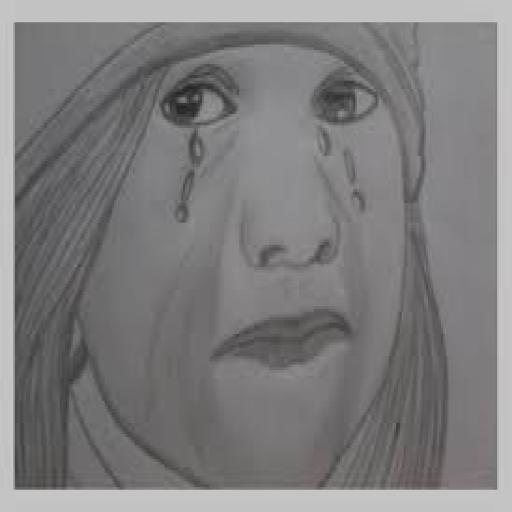person: (15, 22, 457, 491)
